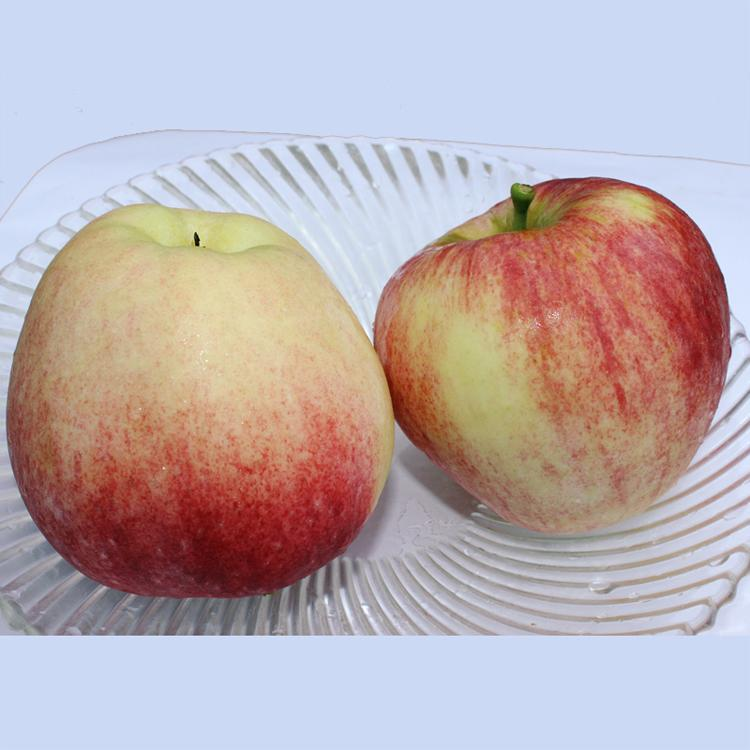apple: (4, 204, 404, 602), (375, 178, 737, 543)
